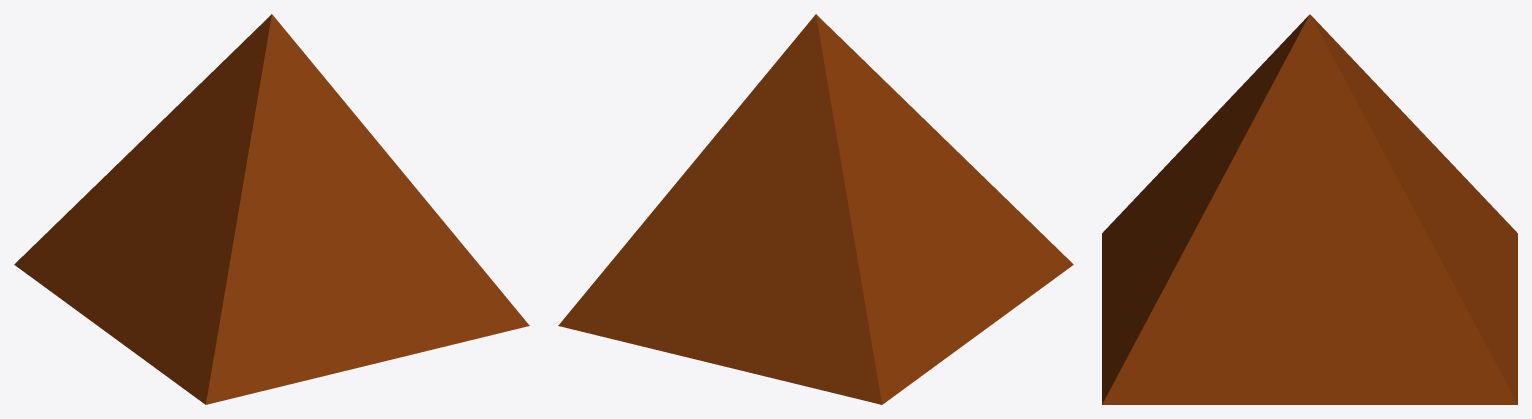
3 views of the same model, side by side, from view 1: azimuth 30°, elevation 25°; view 2: azimuth 150°, elevation 25°; view 3: azimuth 270°, elevation 25° (orthographic). The views are drawn at different scales.
Parts seen in each view (by area): view 1: Pyramid001; view 2: Pyramid001; view 3: Pyramid001.
Part boxes in pixels (left/top/right/bottom): Pyramid001: left=14, top=14, right=529, bottom=404; Pyramid001: left=558, top=14, right=1073, bottom=404; Pyramid001: left=1102, top=14, right=1517, bottom=404.
Size of the model in its own units: 20.25 by 20.74 by 16.79.
